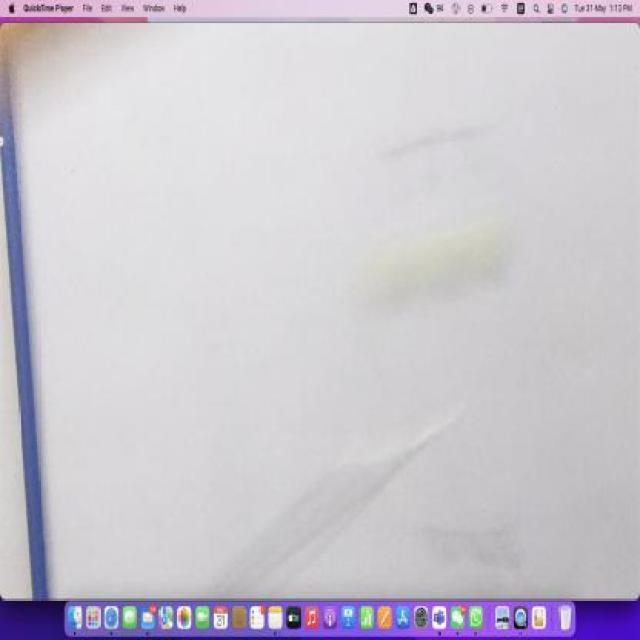baseball: (353, 212, 518, 306)
